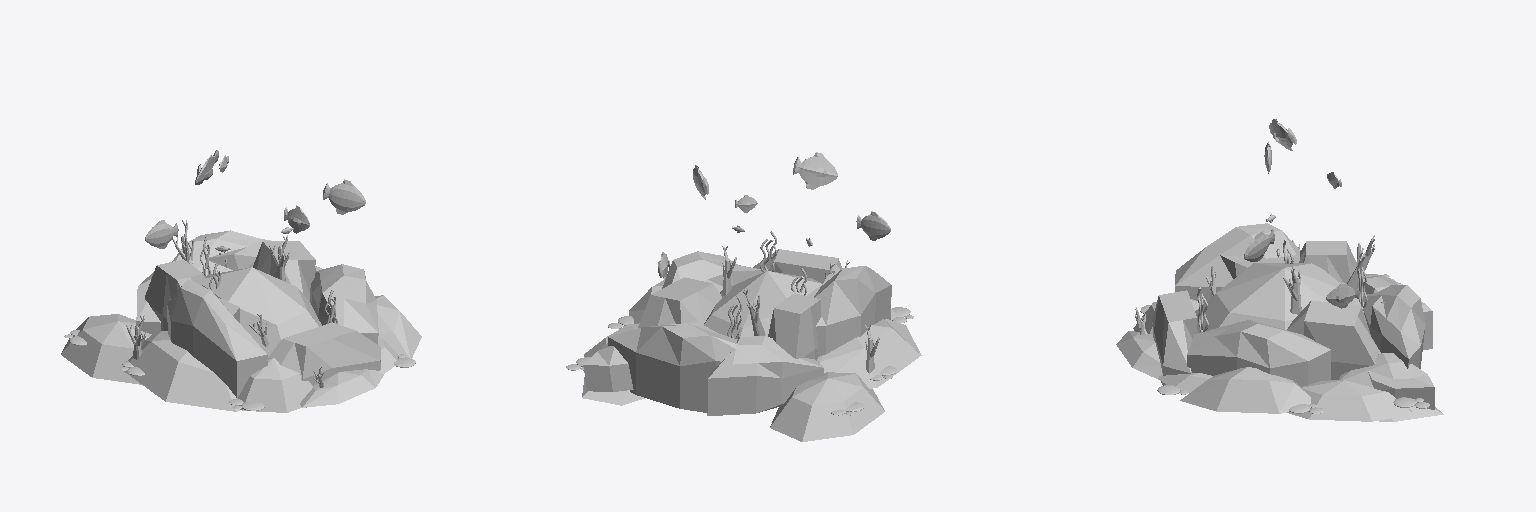
The model's file is pecera3.obj.
3 views of the same model, side by side, from view 1: azimuth 30°, elevation 25°; view 2: azimuth 150°, elevation 25°; view 3: azimuth 270°, elevation 25° (orthographic).
Parts seen in each view (by area): view 1: Underwater_Scene:sphere[number redacted]; view 2: Underwater_Scene:sphere[number redacted]; view 3: Underwater_Scene:sphere[number redacted].
Part boxes in pixels (x1,y1,x2,y2): Underwater_Scene:sphere[number redacted]: (61,150,421,412); Underwater_Scene:sphere[number redacted]: (566,152,921,441); Underwater_Scene:sphere[number redacted]: (1116,119,1443,421).
Bounding box in the file's own units: 1.26 × 0.976 × 1.27.